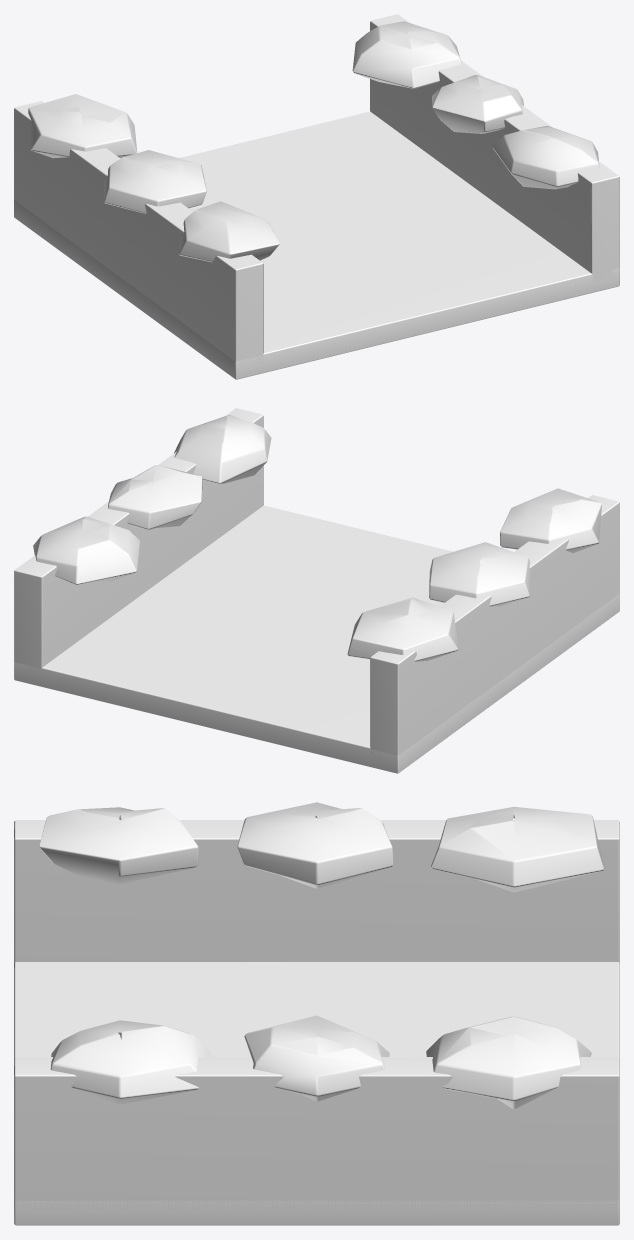
Rendered from stream.glb.
3 renders of one model, top to bottom at view 1: azimuth 30°, elevation 25°; view 2: azimuth 150°, elevation 25°; view 3: azimuth 270°, elevation 25°, orthographic. The views are drawn at different scales.
Visible parts, largest first — view 1: Stream; view 2: Stream; view 3: Stream.
Part boxes in pixels (x1,y1,x2,y2): Stream: (14, 14, 619, 379); Stream: (14, 408, 619, 773); Stream: (14, 802, 619, 1225).
Bounding box in the file's own units: 4.41 × 1.27 × 4.
1 material, 1 textured.
